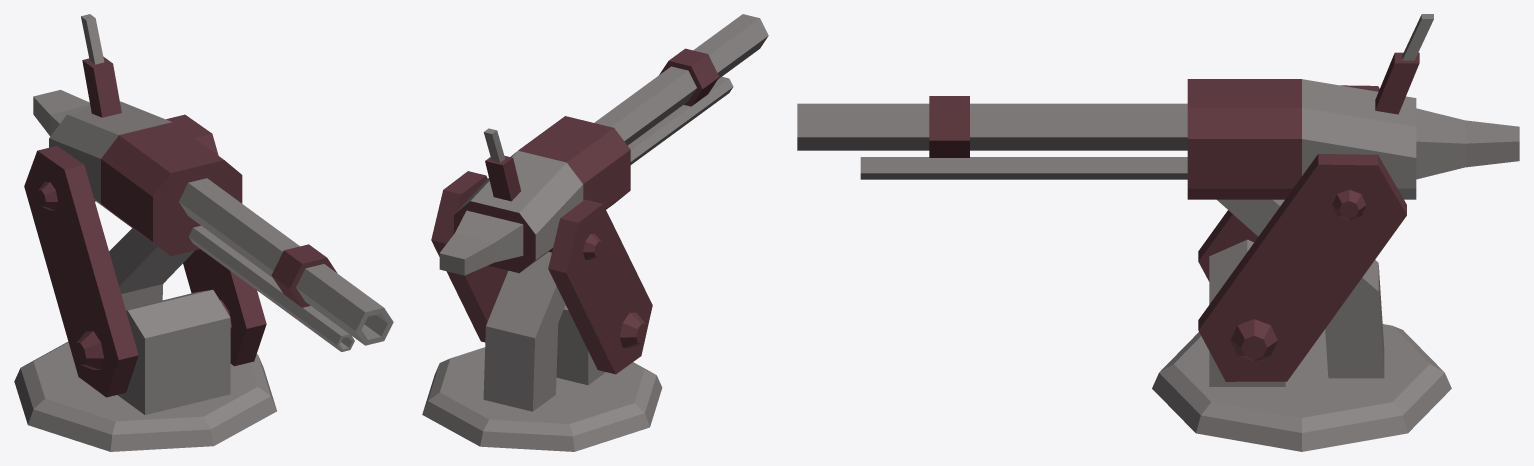
Rendered from scifi-turret-head-laser-big.fbx.
3 renders of one model, left to right at view 1: azimuth 30°, elevation 25°; view 2: azimuth 150°, elevation 25°; view 3: azimuth 270°, elevation 25°, orthographic. The views are drawn at different scales.
Visible parts, largest first — view 1: scifi-turret-head-laser-big; view 2: scifi-turret-head-laser-big; view 3: scifi-turret-head-laser-big.
Boxes of the visible parts, box(x1,y1,x2,y2) form: scifi-turret-head-laser-big: box(14, 14, 393, 451); scifi-turret-head-laser-big: box(422, 14, 768, 451); scifi-turret-head-laser-big: box(797, 14, 1519, 451).
Size of the model in its own units: 2.2 by 3.01 by 5.31.
